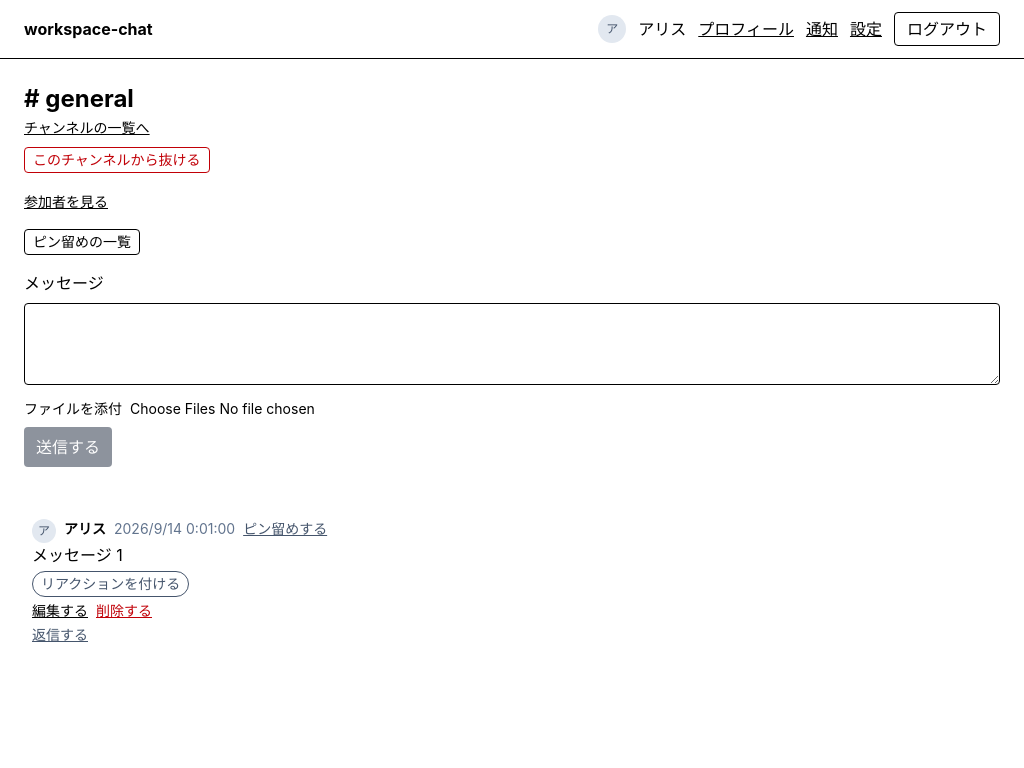
Scenario: 編集（F-13） › 編集すると本文を api に送り、その場で置き換えて「（編集済み）」を付ける
This screenshot has width=1024, height=768.
Click the button "編集する": (60,611) [32,601,88,621]
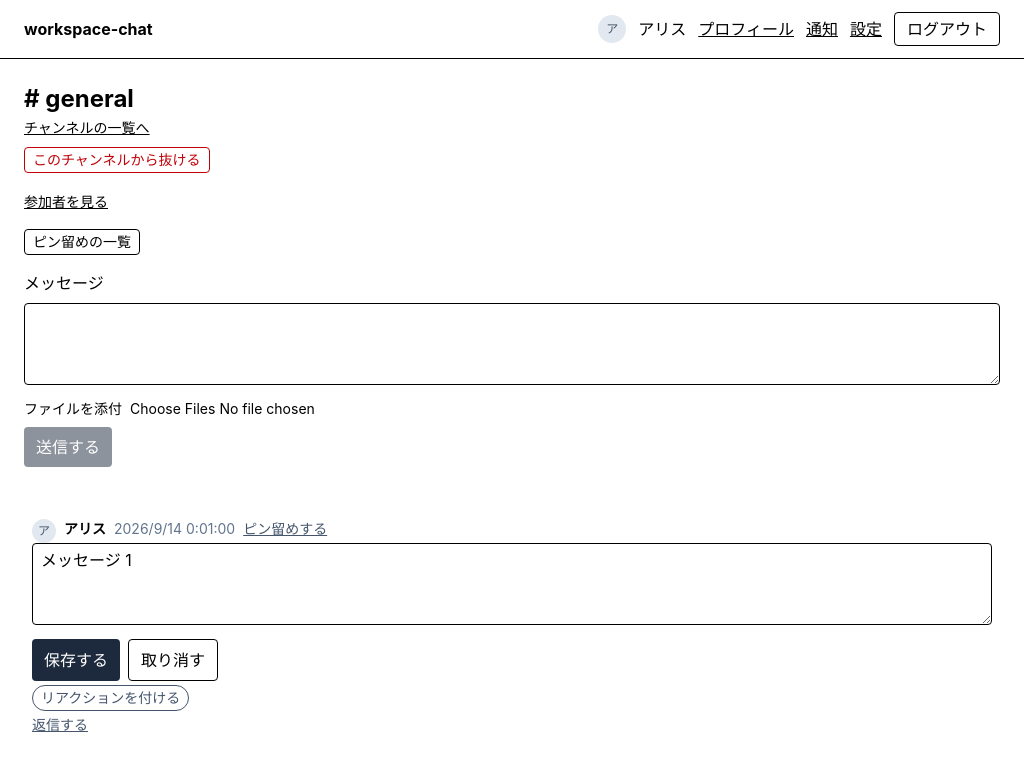
Now the dropdown named "メッセージを編集" holds "メッセージ 1"
Replace the text in the dropdown named "メッセージを編集" with "直した本文": (512,584) [32,543,992,625]
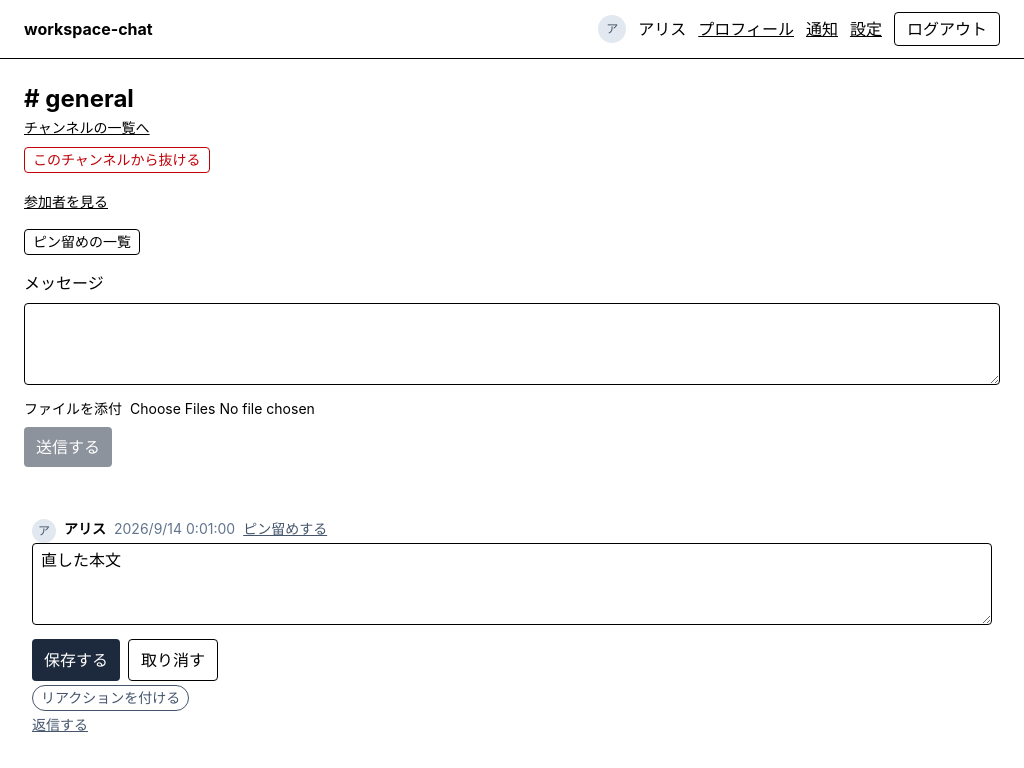
Click the button "保存する": (76,660) [32,639,120,681]
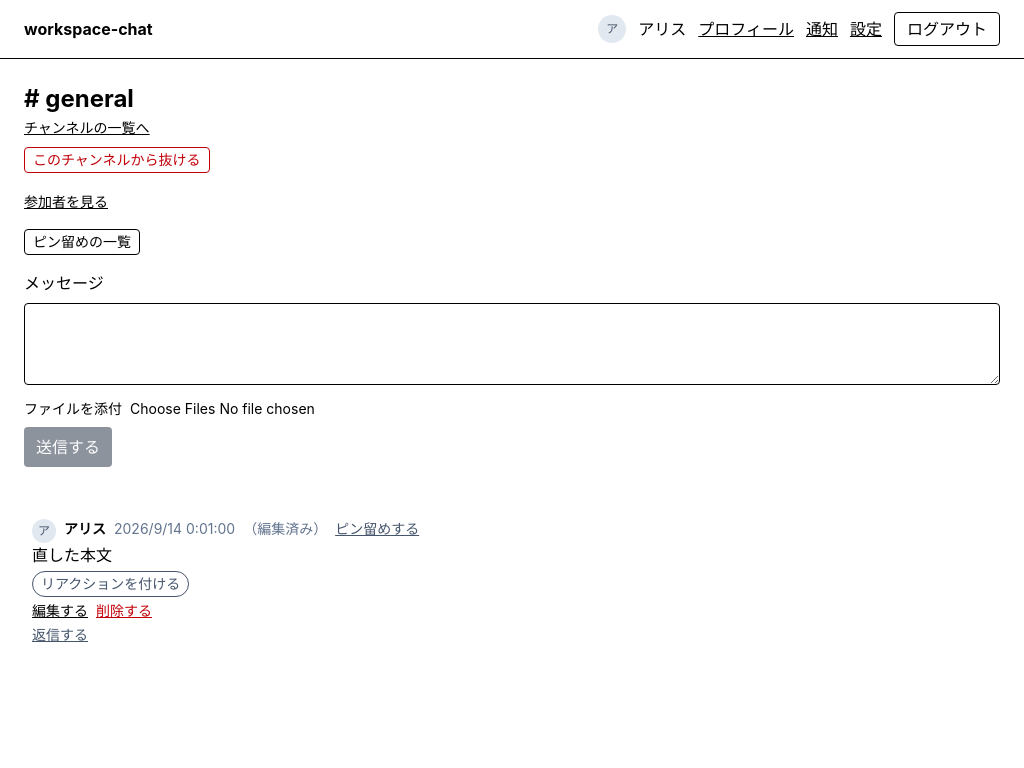
Expected: the field labelled "メッセージを編集" is not shown
Now the text "直した本文" is shown, box [32,545,112,565]
